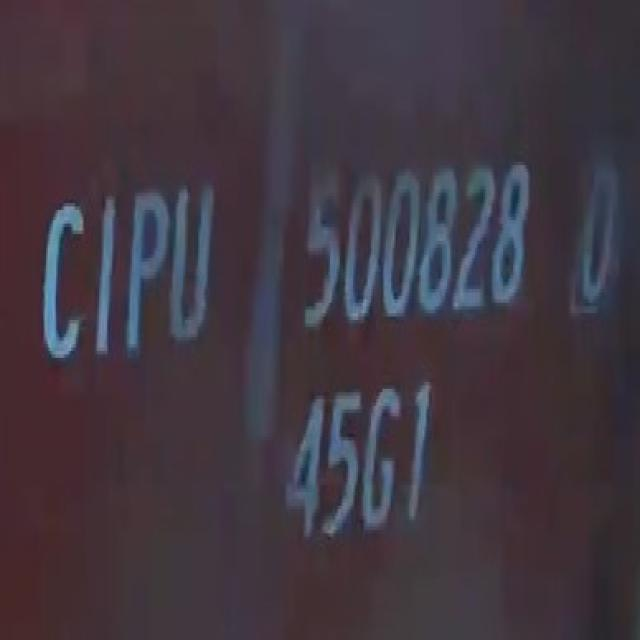dv: (564, 140, 626, 313)
owner: (33, 160, 224, 391)
serial: (294, 148, 542, 342)
size: (285, 362, 441, 558)
